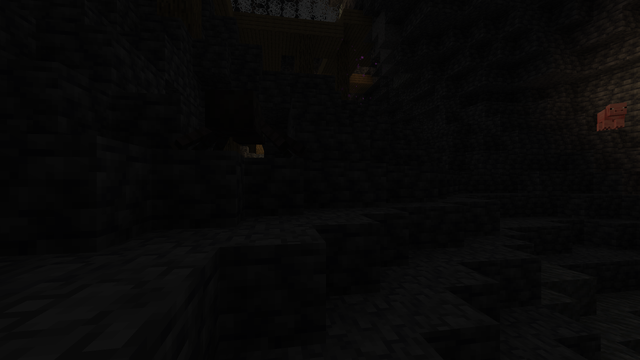araignees: (186, 86, 288, 158)
cochons: (591, 106, 630, 130)
